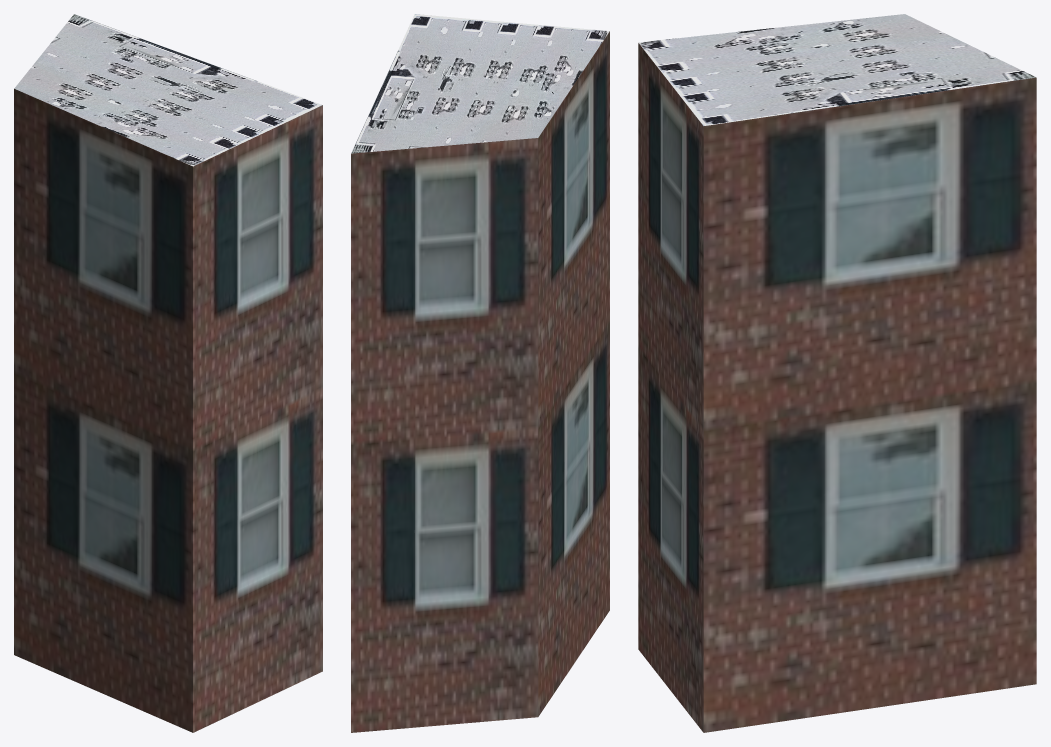
Rendered from ResTex__2690.fbx.
3 views of the same model, side by side, from view 1: azimuth 30°, elevation 25°; view 2: azimuth 150°, elevation 25°; view 3: azimuth 270°, elevation 25° (orthographic). The views are drawn at different scales.
Visible parts, largest first — view 1: CityEngineMaterial_14_m, CityEngineMaterial_8_m; view 2: CityEngineMaterial_14_m, CityEngineMaterial_8_m; view 3: CityEngineMaterial_14_m, CityEngineMaterial_8_m.
Part boxes in pixels (left/top/right/bottom): CityEngineMaterial_14_m: left=14, top=88, right=322, bottom=732; CityEngineMaterial_8_m: left=14, top=14, right=322, bottom=166; CityEngineMaterial_14_m: left=351, top=31, right=609, bottom=732; CityEngineMaterial_8_m: left=351, top=14, right=609, bottom=153; CityEngineMaterial_14_m: left=638, top=43, right=1036, bottom=732; CityEngineMaterial_8_m: left=638, top=14, right=1036, bottom=125.
Size of the model in its own units: 2.38 by 6 by 3.57.
Materials: 2 (2 with a texture image).
